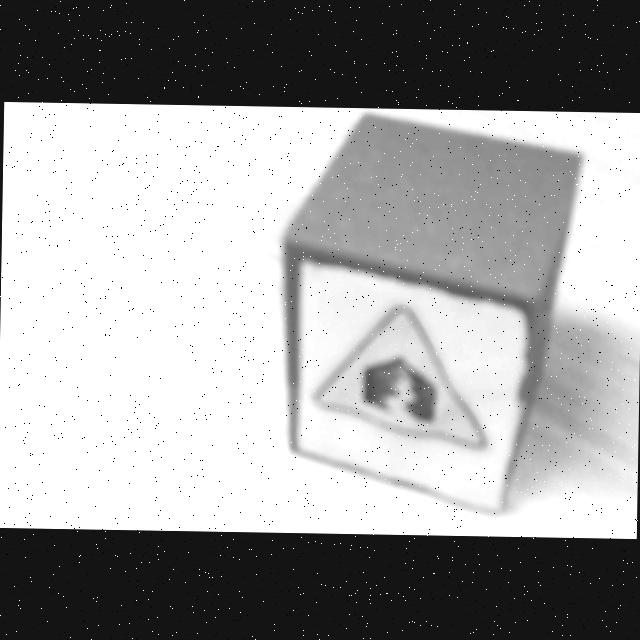Earthquake: (312, 305, 487, 450)
